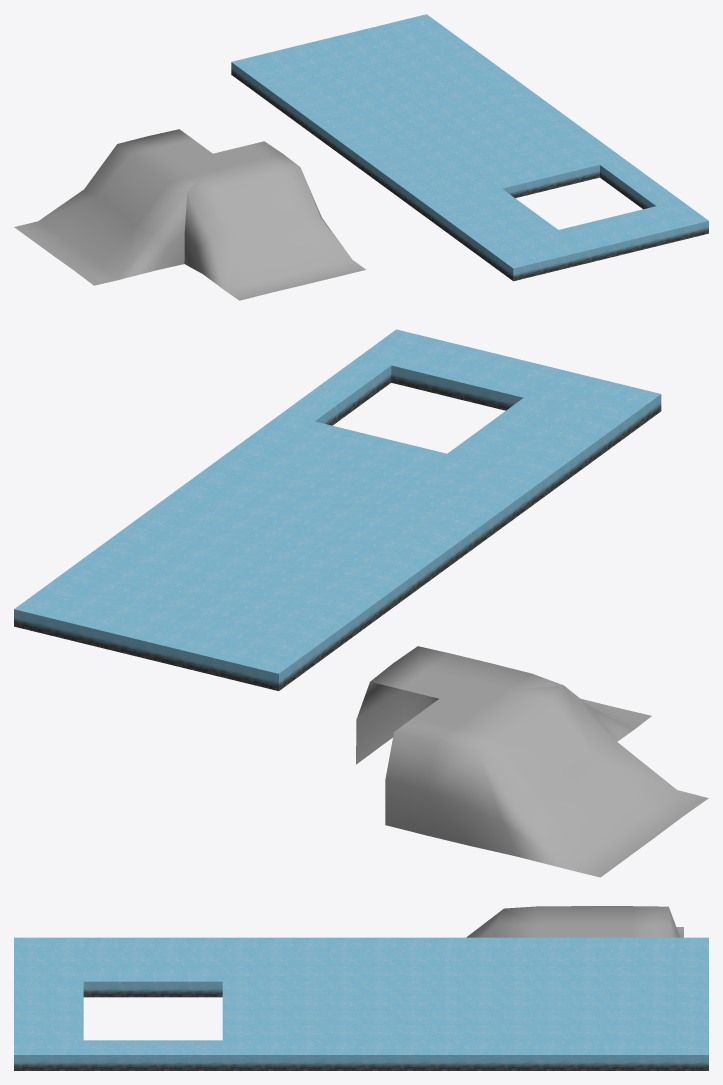
File: Stage_Block_3_1_2F 1.fbx
The picture shows the model from 3 angles, top to bottom: view 1: azimuth 30°, elevation 25°; view 2: azimuth 150°, elevation 25°; view 3: azimuth 270°, elevation 25°; orthographic projection. The views are drawn at different scales.
Parts seen in each view (by area): view 1: a; view 2: a; view 3: a.
Part boxes in pixels (<box>): a: <box>14,14,708,300</box>; a: <box>14,329,708,877</box>; a: <box>14,906,708,1070</box>.
Bounding box in the file's own units: 3460 × 800 × 4000.
Materials: 2 (1 with a texture image).
